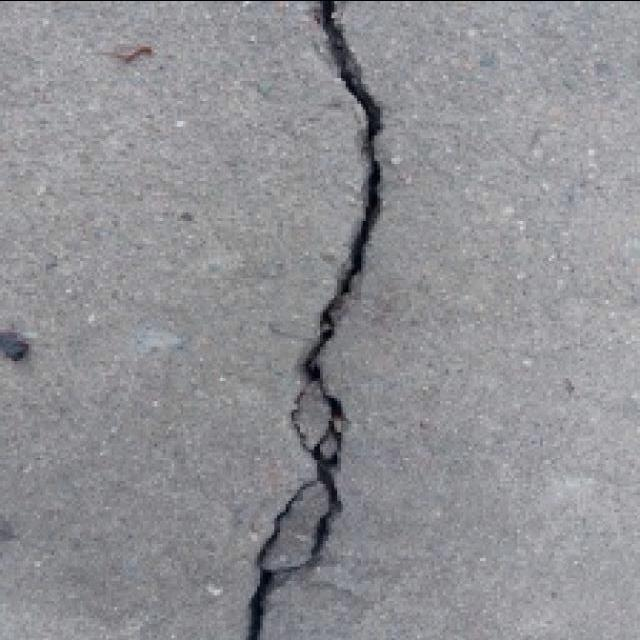SurfaceCrack: (192, 0, 420, 640)
